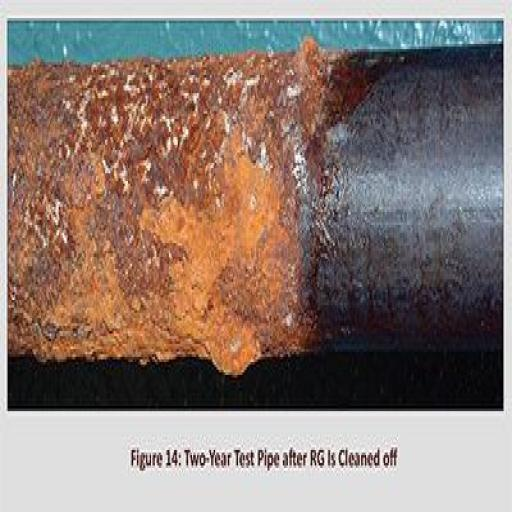segmentation: (9, 39, 366, 372)
